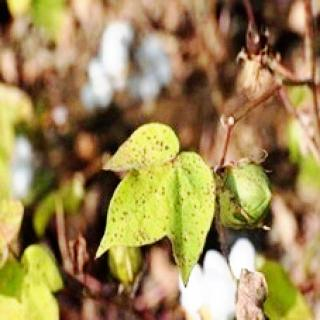leaf spot: (92, 123, 212, 273)
